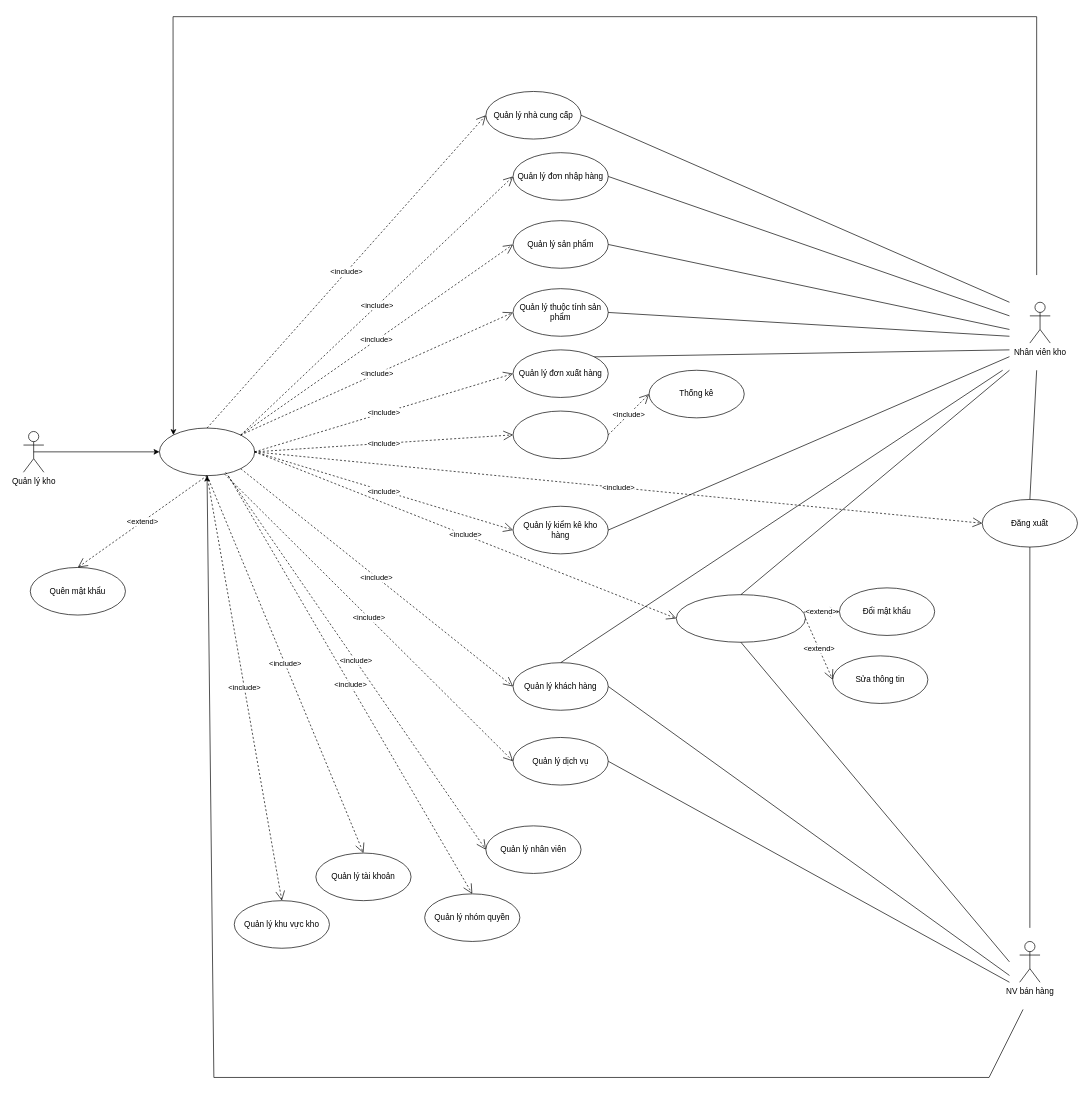
Image size: 1089x1095. Some labels were removed from this diagram. Here are the shapes that lost their labels. From the top down, the box of each, then its label:
(159, 427, 255, 476): Đăng nhập
(512, 410, 608, 459): Quản lý doanh thu
(676, 594, 805, 642): Quản lý thông tin cá nhân
